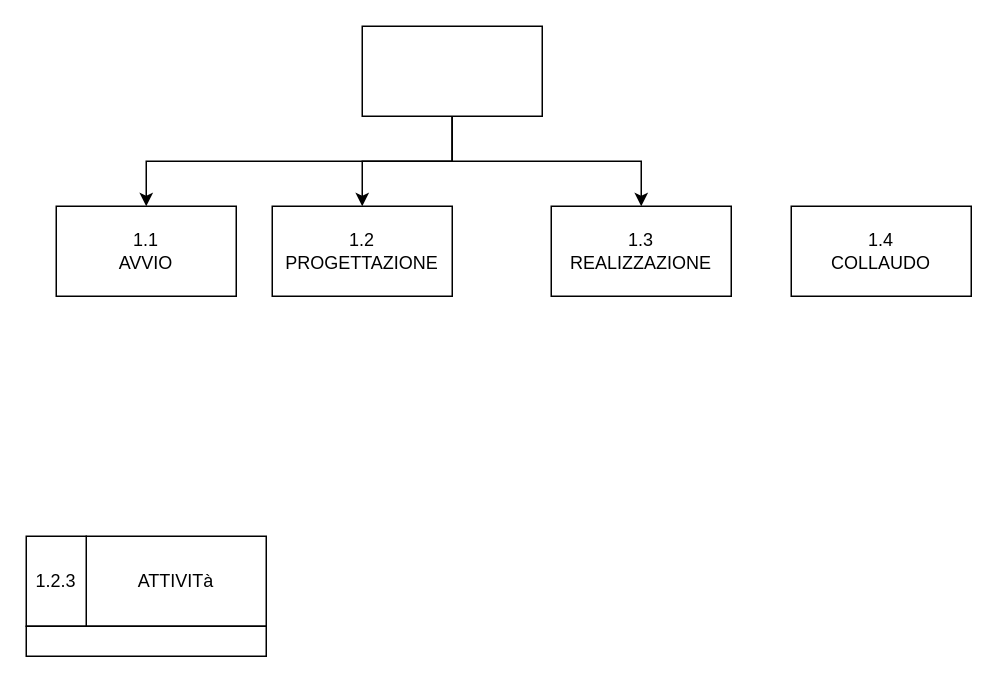
The diagram is 998 pixels wide and 695 high, and some of its shapes have lost their labels. Each missing label, with the centre of its shape:
1.0 LCS: (x=451, y=70)
NUM ORE: (x=145, y=640)
